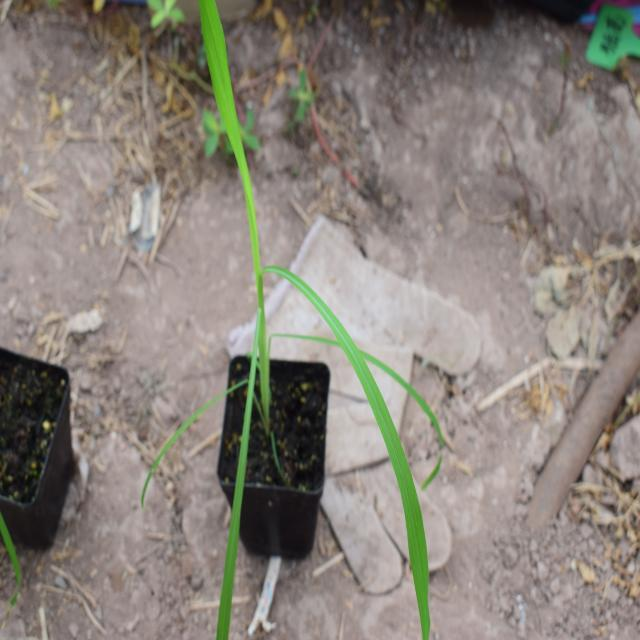barnyard_grass: (174, 12, 460, 618)
